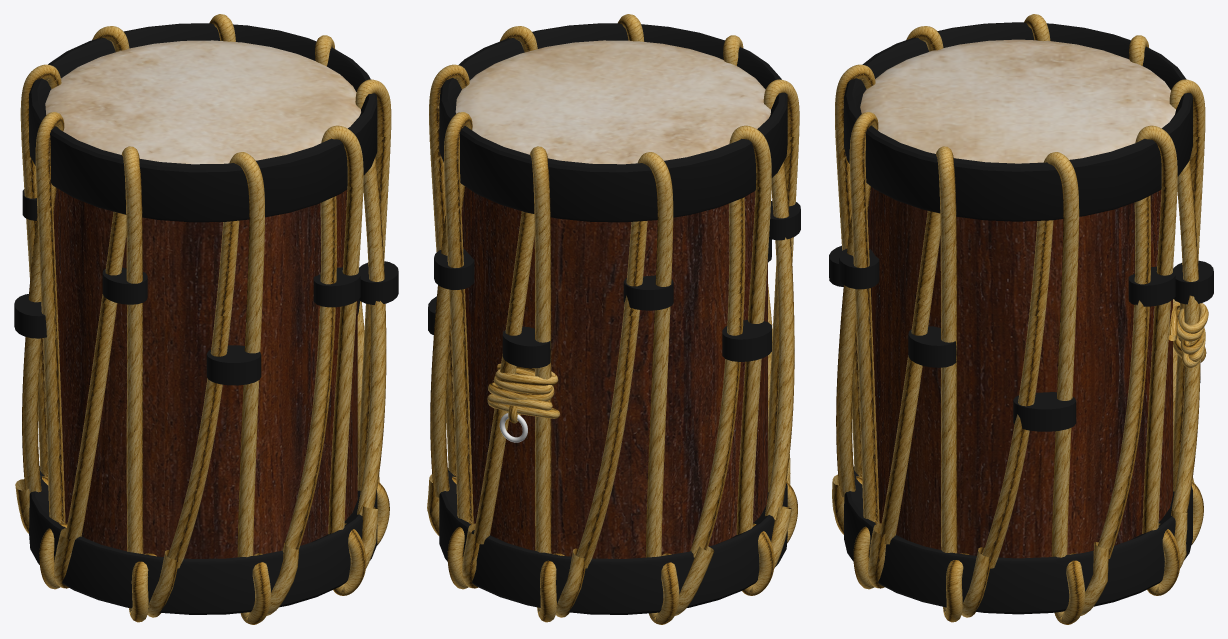
The model's file is Chenda.glb.
3 views of the same model, side by side, from view 1: azimuth 30°, elevation 25°; view 2: azimuth 150°, elevation 25°; view 3: azimuth 270°, elevation 25° (orthographic).
Parts seen in each view (by area): view 1: Cylinder, NurbsPath, Cylinder.004, Cylinder.001, Cylinder.002, Cylinder.005; view 2: Cylinder, NurbsPath, Cylinder.004, NurbsPath.002, Cylinder.005, Cylinder.006, Cylinder.002; view 3: Cylinder, NurbsPath, Cylinder.004, NurbsPath.002.
Boxes of the visible parts, <box> form: Cylinder: <box>29,23,377,614</box>; NurbsPath: <box>15,14,391,624</box>; Cylinder.004: <box>313,261,398,315</box>; Cylinder.001: <box>206,345,261,385</box>; Cylinder.002: <box>102,267,147,304</box>; Cylinder.005: <box>14,294,46,338</box>; Cylinder: <box>439,23,787,614</box>; NurbsPath: <box>427,14,799,624</box>; Cylinder.004: <box>428,249,550,368</box>; NurbsPath.002: <box>487,363,559,423</box>; Cylinder.005: <box>722,320,771,361</box>; Cylinder.006: <box>623,275,673,310</box>; Cylinder.002: <box>769,201,800,240</box>; Cylinder: <box>844,22,1192,614</box>; NurbsPath: <box>832,14,1205,624</box>; Cylinder.004: <box>839,248,1213,431</box>; NurbsPath.002: <box>1168,301,1208,367</box>.
Size of the model in its own units: 3.36 by 4.51 by 3.33.
5 materials, 3 textured.
